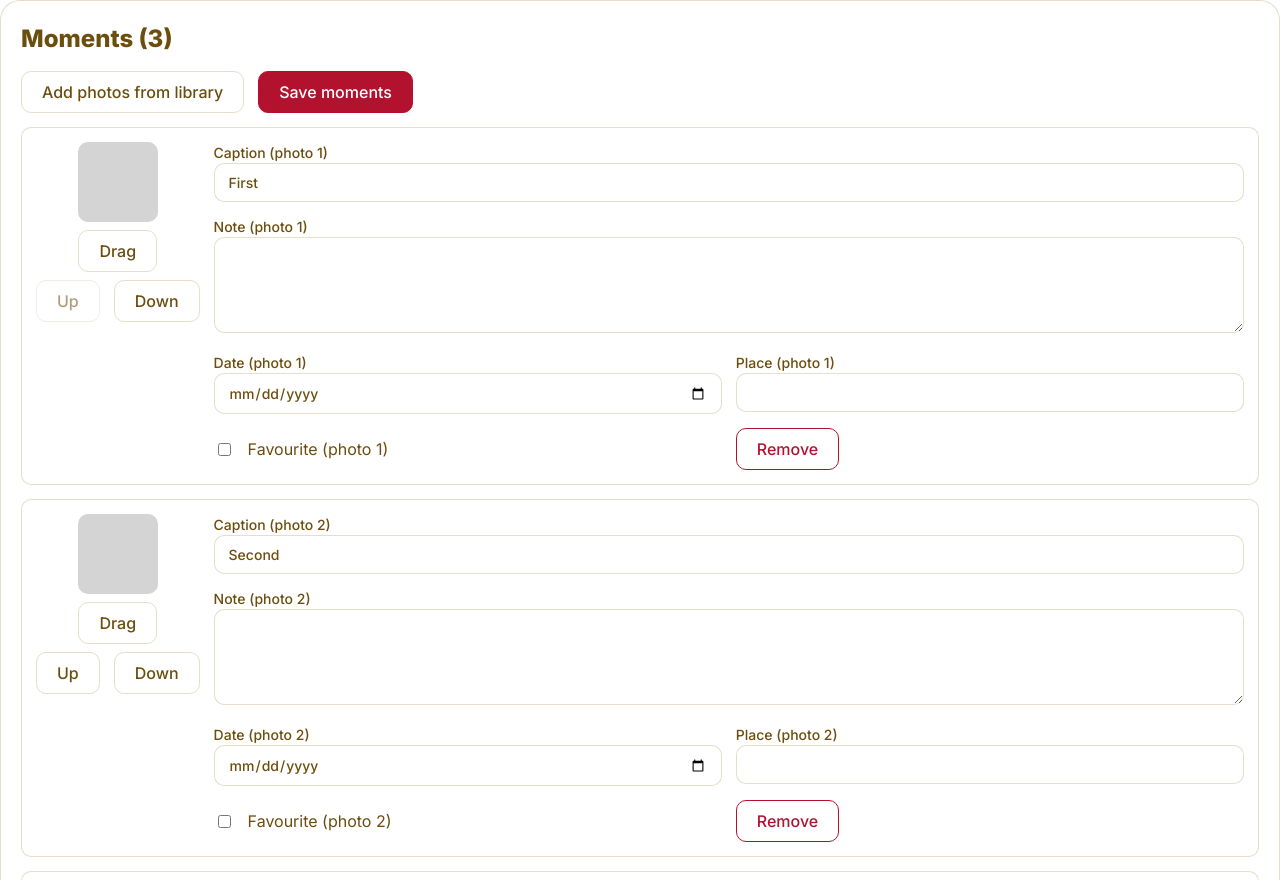
Test: MomentsEditor › drops stale server field errors after a removal
Check: the field labelled "Caption (photo 2)" is shown, box [214, 535, 1244, 574]
Click the button "Save moments": x=336, y=92 [258, 71, 413, 113]
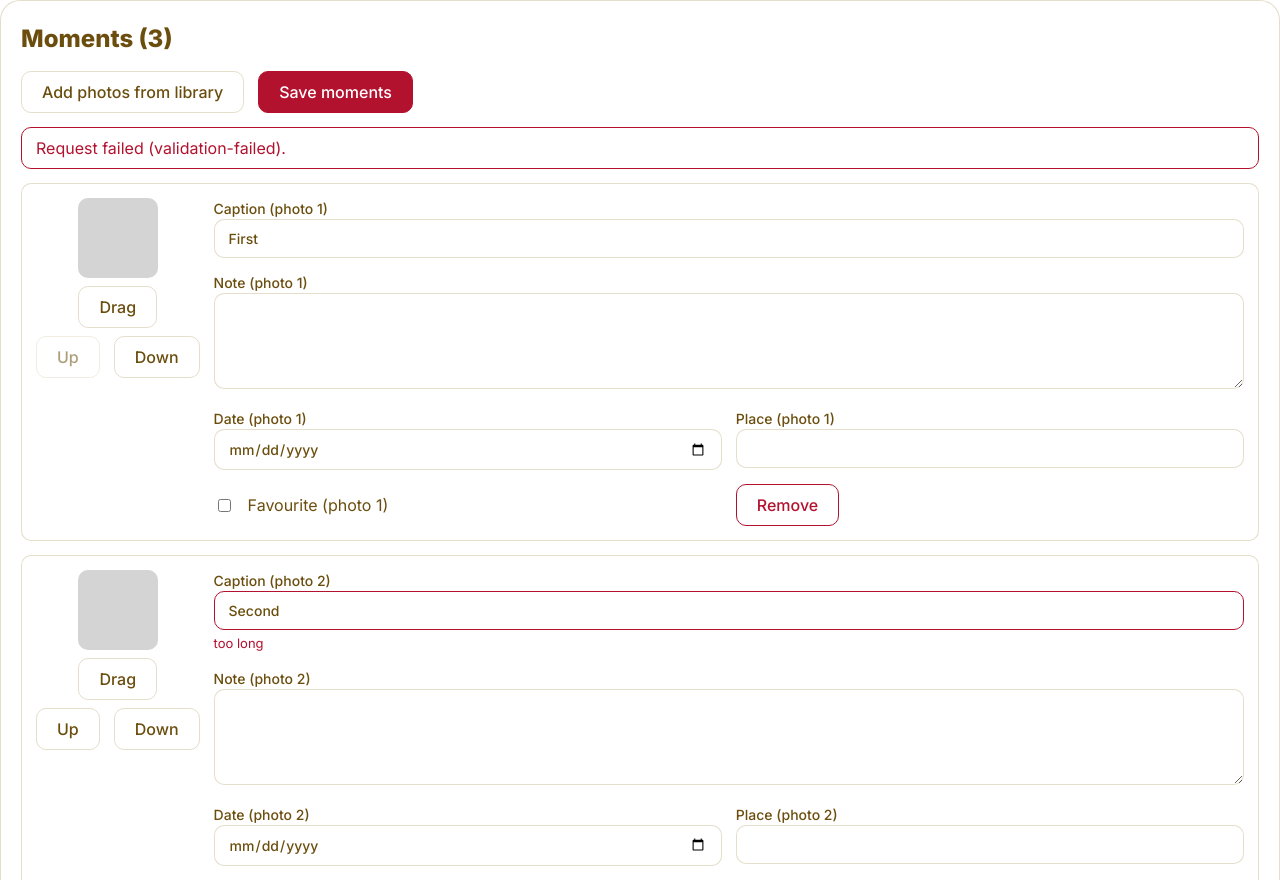
Check: the text "too long" is shown, box [214, 635, 264, 651]
Click the button with aria-label "Remove (photo 1)": x=788, y=505 [736, 484, 839, 526]
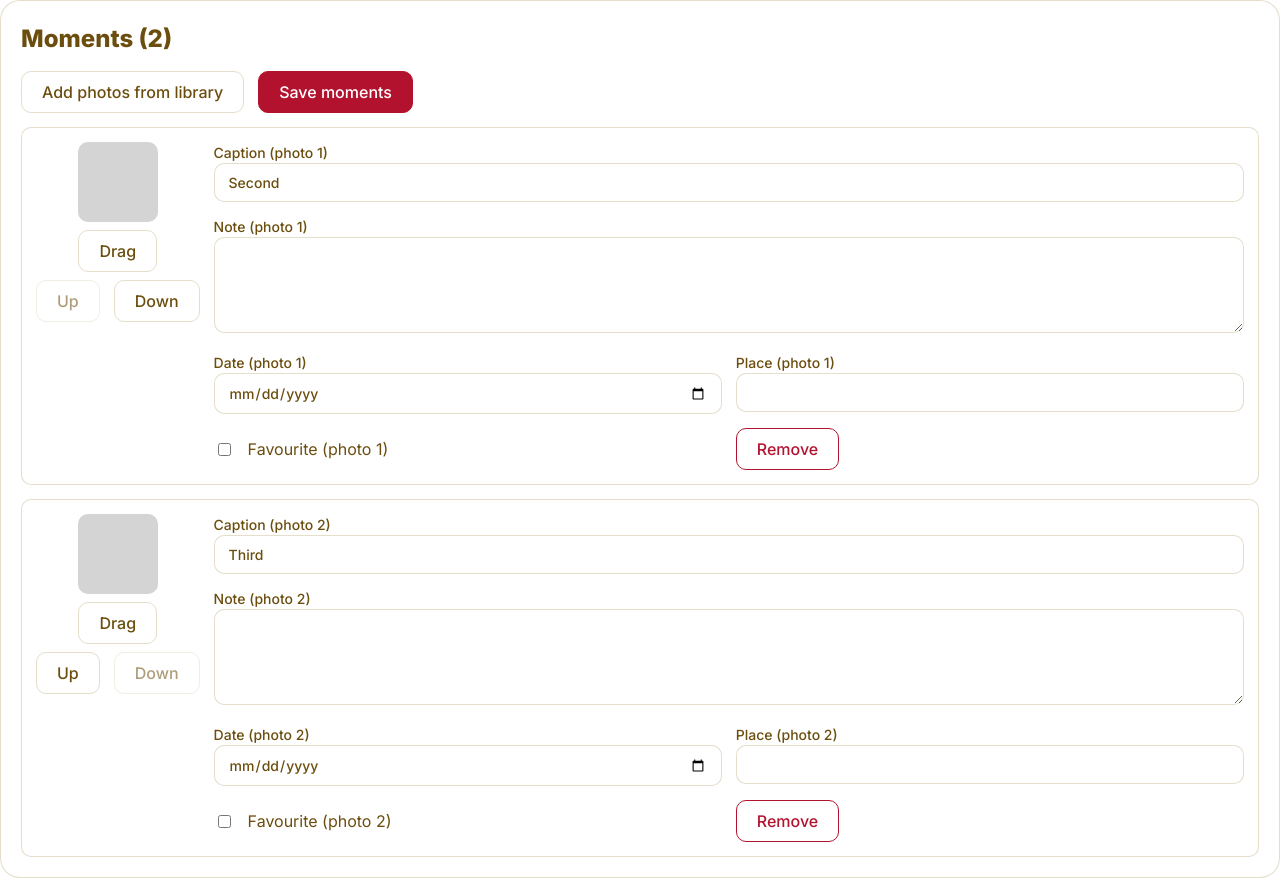
Check: the text "too long" is gone
